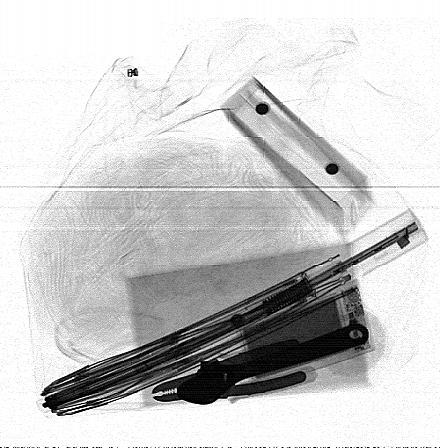Pliers: (154, 339, 308, 402)
Powerbank: (236, 277, 376, 389)
Wrench: (178, 323, 370, 407)
